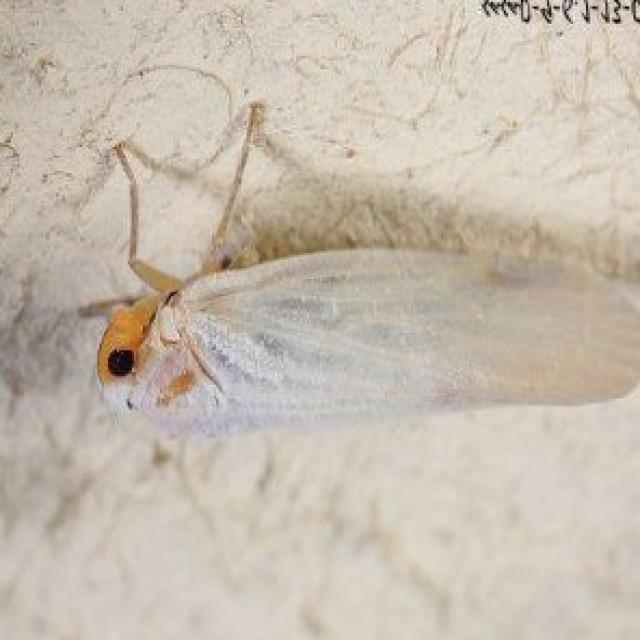brown plant hopper: (97, 122, 640, 437)
